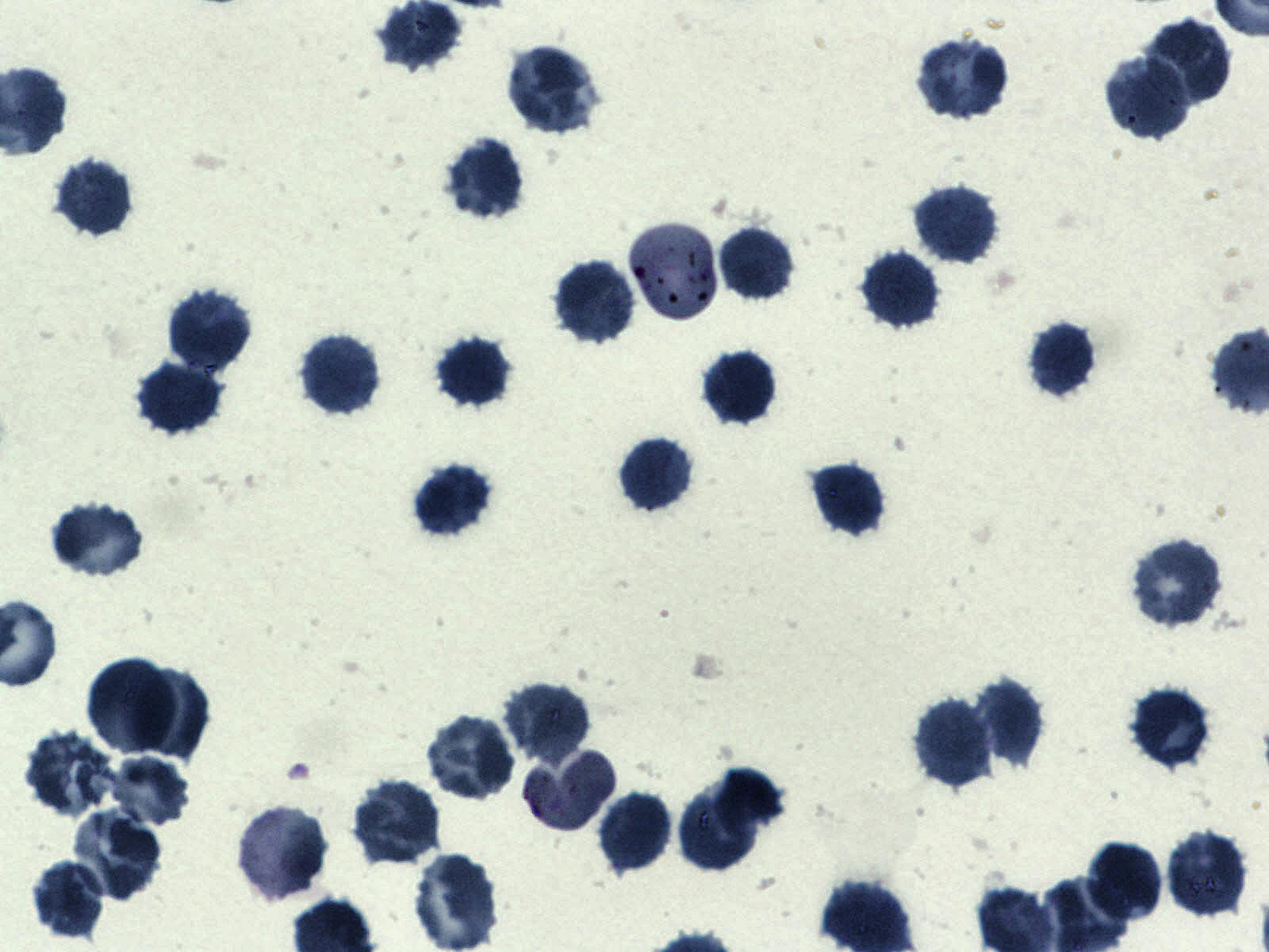Infected: (630, 221, 719, 325), (520, 748, 615, 836)
Uninfected: (88, 656, 174, 755), (412, 850, 499, 947), (237, 805, 328, 897), (1132, 536, 1224, 625), (505, 45, 597, 131), (1146, 17, 1233, 106), (76, 812, 163, 900), (25, 729, 113, 816), (1163, 832, 1248, 922), (427, 716, 515, 800), (50, 500, 143, 578), (919, 37, 1009, 117), (500, 687, 592, 765), (354, 781, 441, 863), (1106, 56, 1190, 140), (130, 668, 209, 757), (680, 778, 754, 873), (169, 290, 251, 371), (140, 358, 223, 435), (1133, 688, 1211, 768), (55, 155, 135, 233), (558, 260, 635, 341), (412, 464, 493, 541), (914, 186, 996, 262), (302, 335, 379, 414), (449, 140, 525, 220), (917, 702, 990, 785), (1091, 841, 1164, 924), (976, 679, 1047, 763), (438, 334, 514, 412), (109, 753, 187, 829), (601, 793, 673, 874), (621, 434, 692, 516), (866, 249, 939, 328), (809, 461, 884, 537), (33, 862, 107, 939), (707, 346, 779, 425), (377, 1, 460, 68), (1032, 316, 1096, 402), (719, 226, 792, 300), (710, 766, 785, 838)
